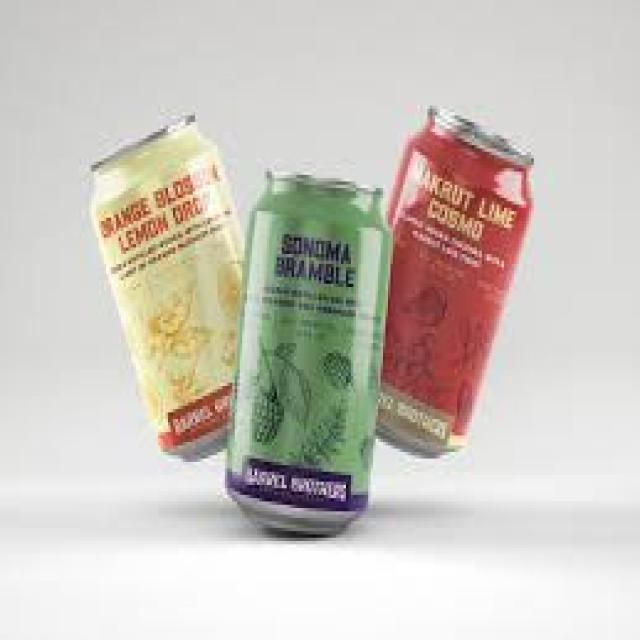Cans: (225, 158, 390, 544), (79, 102, 247, 468), (378, 99, 536, 465)
